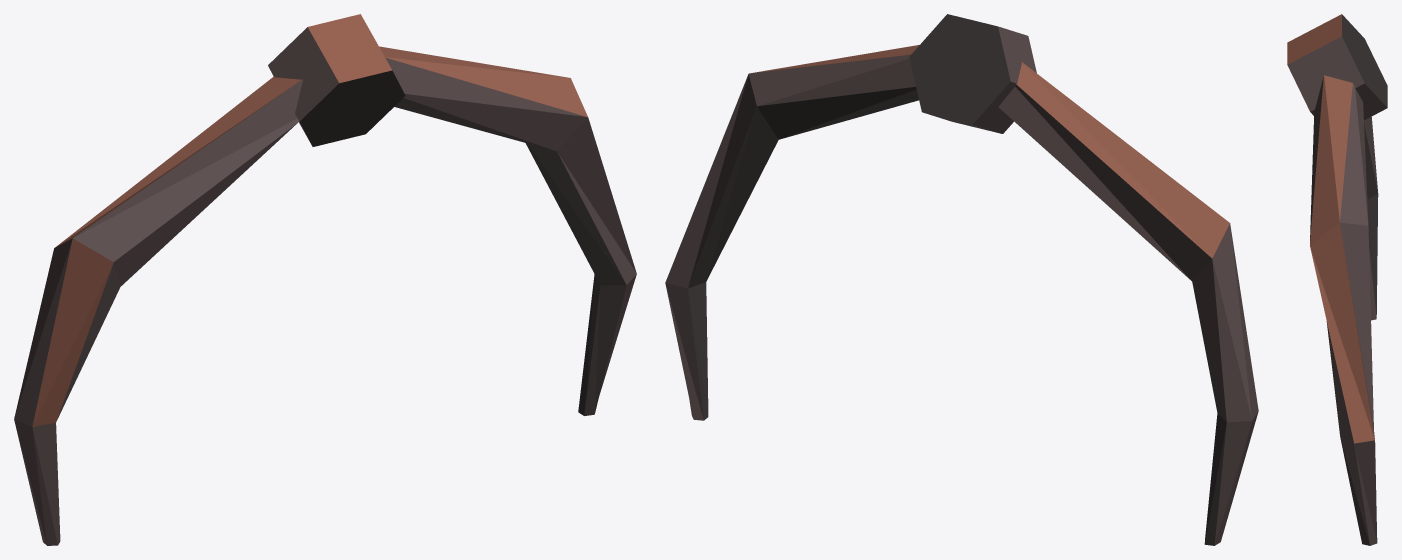
The model's file is TB_D_Env_BoneE_C.FBX.
3 renders of one model, left to right at view 1: azimuth 30°, elevation 25°; view 2: azimuth 150°, elevation 25°; view 3: azimuth 270°, elevation 25°, orthographic. The views are drawn at different scales.
Visible parts, largest first — view 1: TB_D_Env_BoneE_C; view 2: TB_D_Env_BoneE_C; view 3: TB_D_Env_BoneE_C.
Boxes of the visible parts, box(x1,y1,x2,y2) form: TB_D_Env_BoneE_C: box(14, 14, 636, 545); TB_D_Env_BoneE_C: box(665, 14, 1258, 545); TB_D_Env_BoneE_C: box(1287, 14, 1387, 545).
Bounding box in the file's own units: 3.63 × 2.65 × 0.5951.
